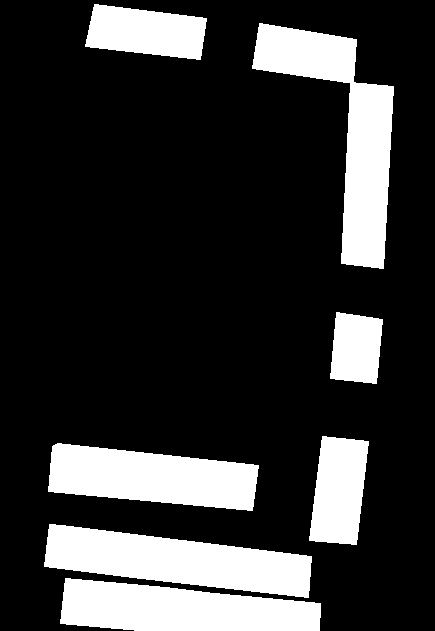parkingspot: (44, 524, 311, 597), (48, 443, 258, 510), (60, 578, 320, 631), (341, 82, 393, 268), (85, 4, 206, 59), (309, 436, 368, 544), (252, 23, 356, 83), (330, 312, 382, 383)
